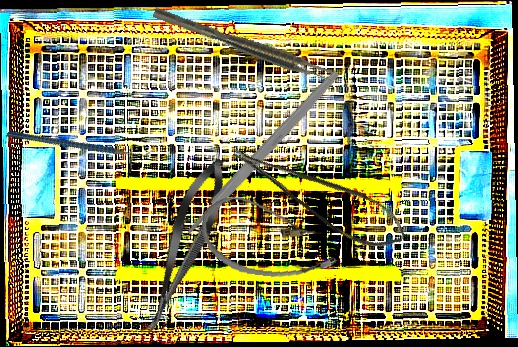Cannula: (196, 192, 343, 285)
Chopper: (5, 83, 156, 201)
Micro Scissor: (228, 117, 414, 267), (130, 152, 238, 341)
Scalpel Handle: (183, 67, 342, 238)
Tissue Forceps: (152, 1, 335, 86)
